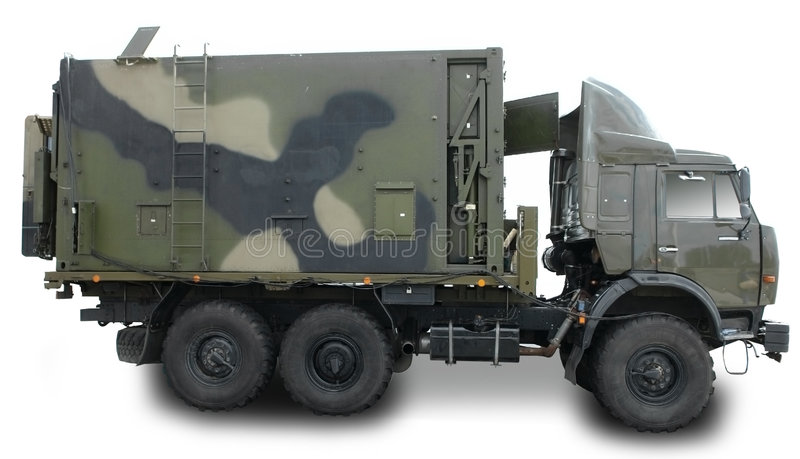camion: (22, 55, 791, 435)
